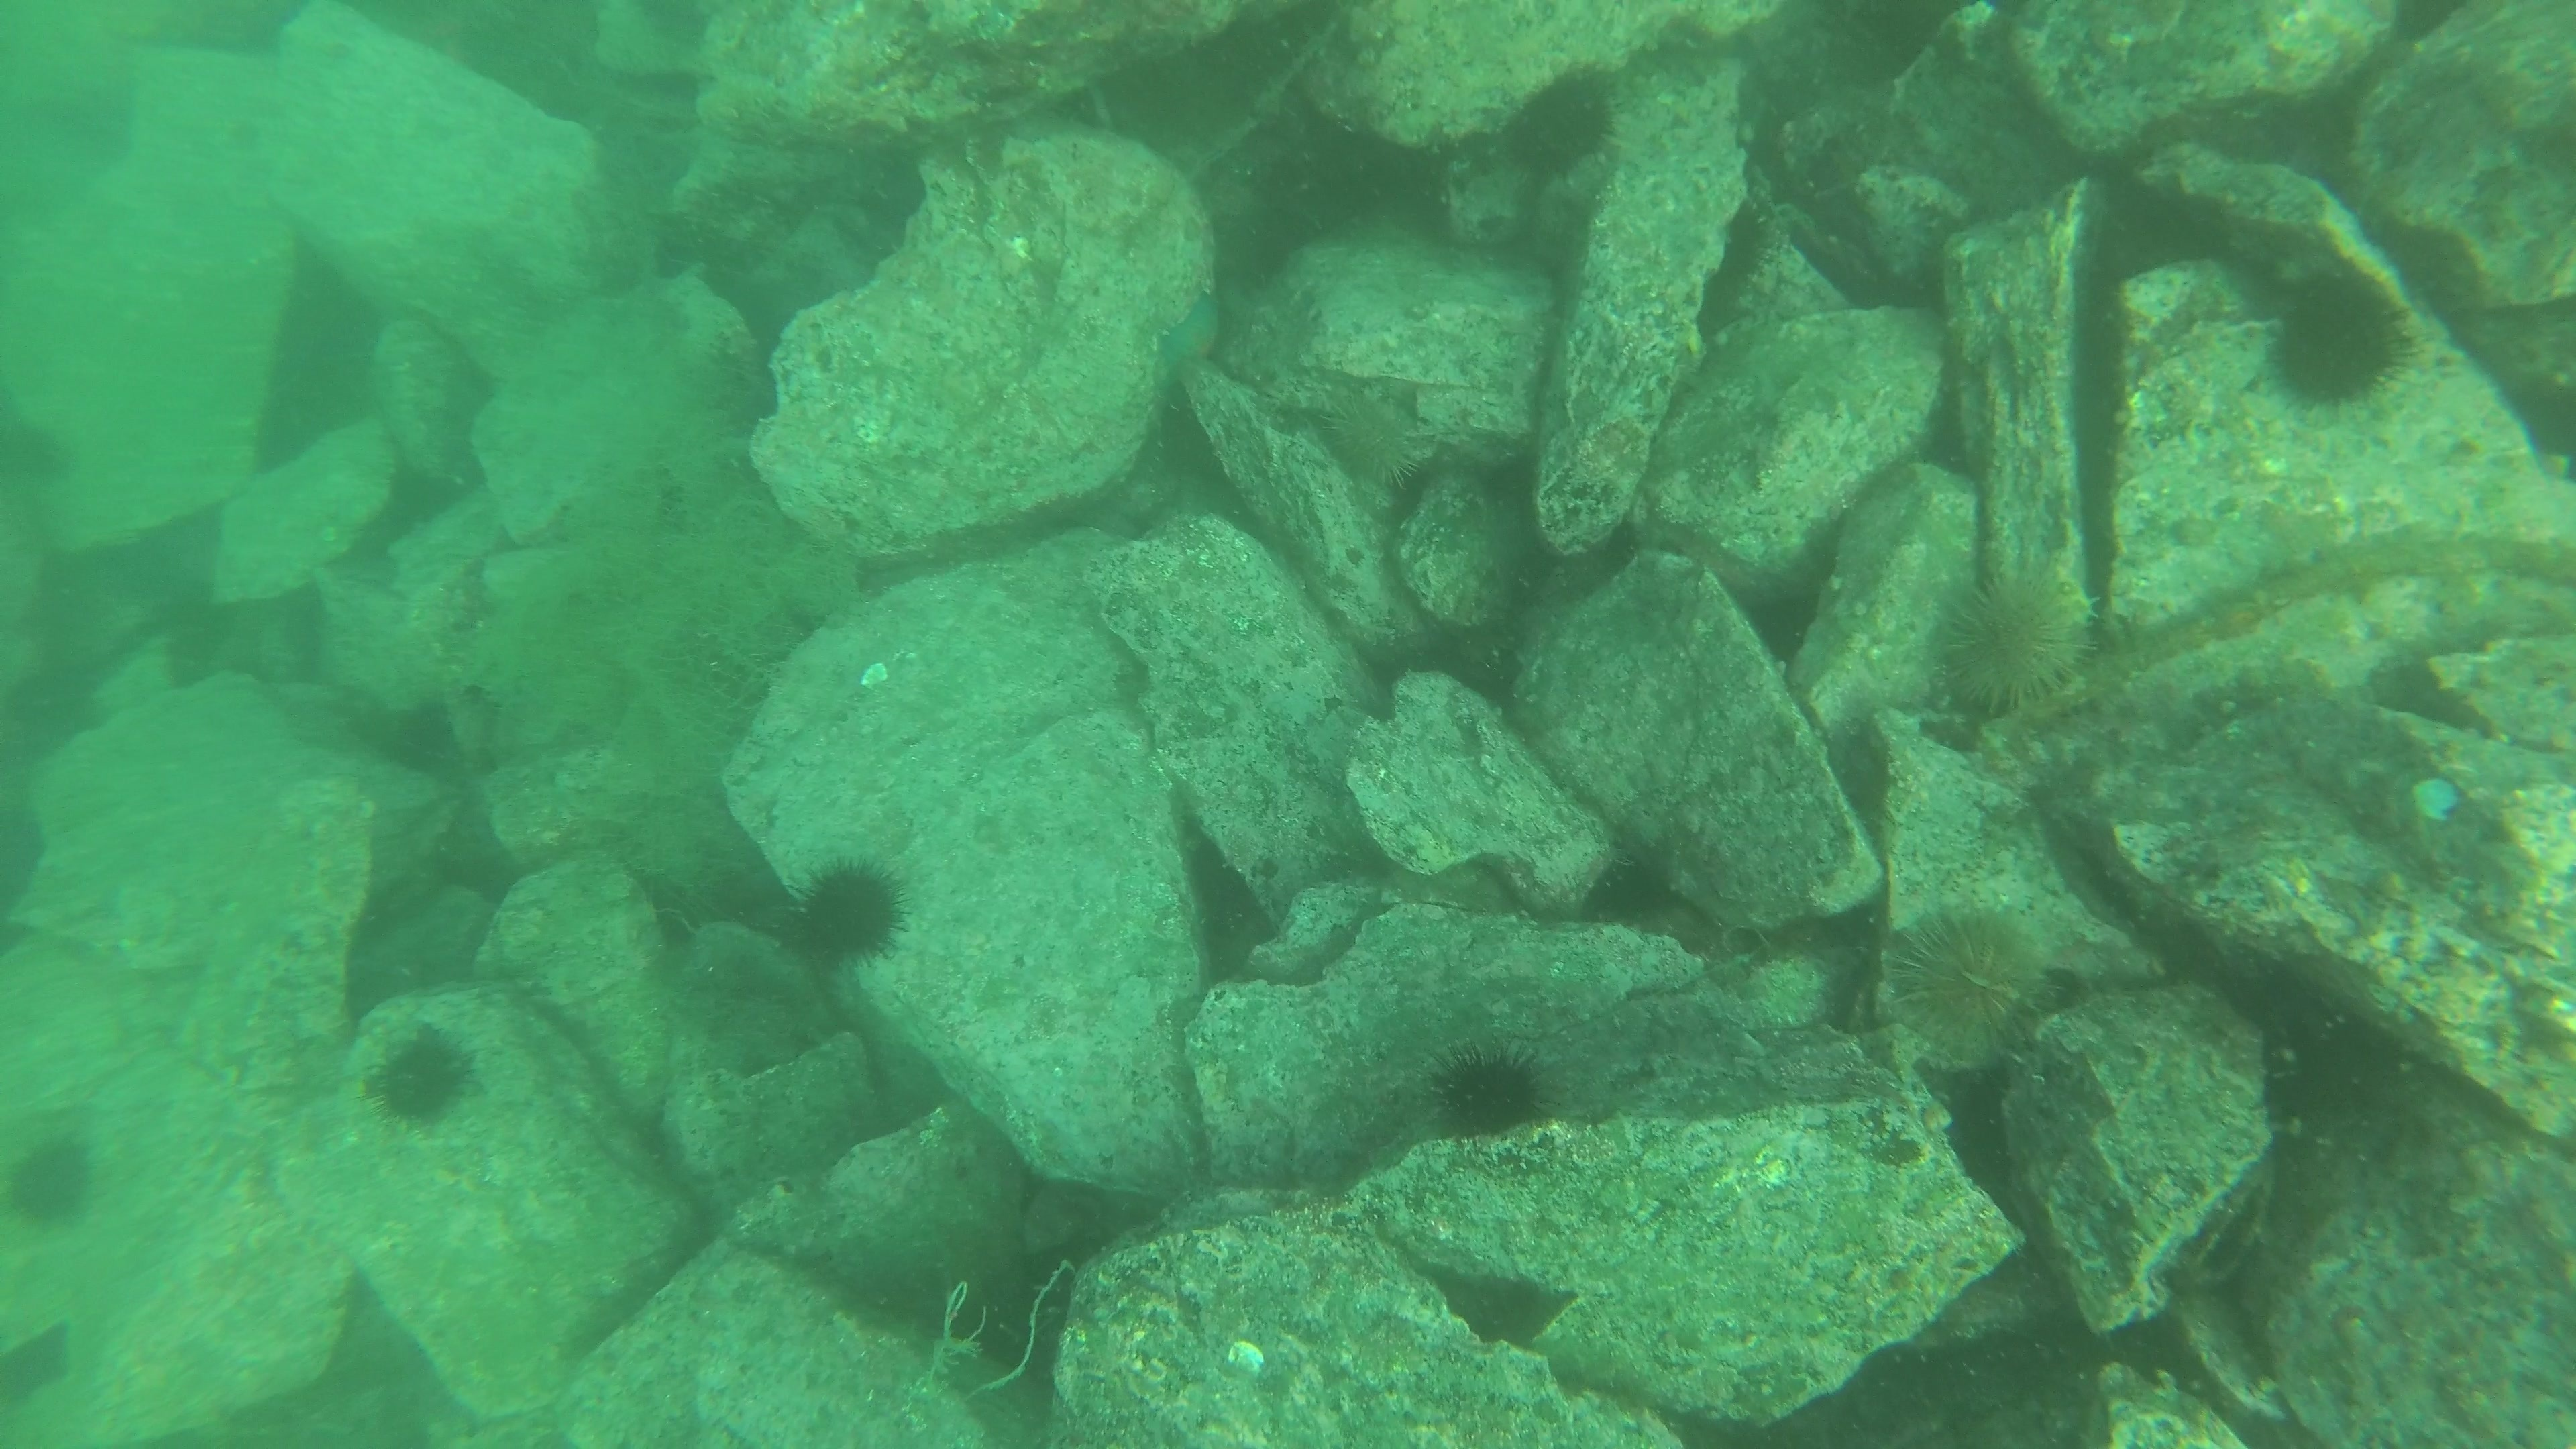echinus: (1928, 557, 2095, 722), (1888, 904, 2054, 1067), (2259, 265, 2413, 412), (1497, 64, 1626, 182), (782, 853, 913, 970), (1311, 382, 1433, 495), (1426, 1040, 1557, 1145), (363, 1021, 481, 1131), (4, 1125, 103, 1233)
starfish: (1146, 280, 1226, 396)
